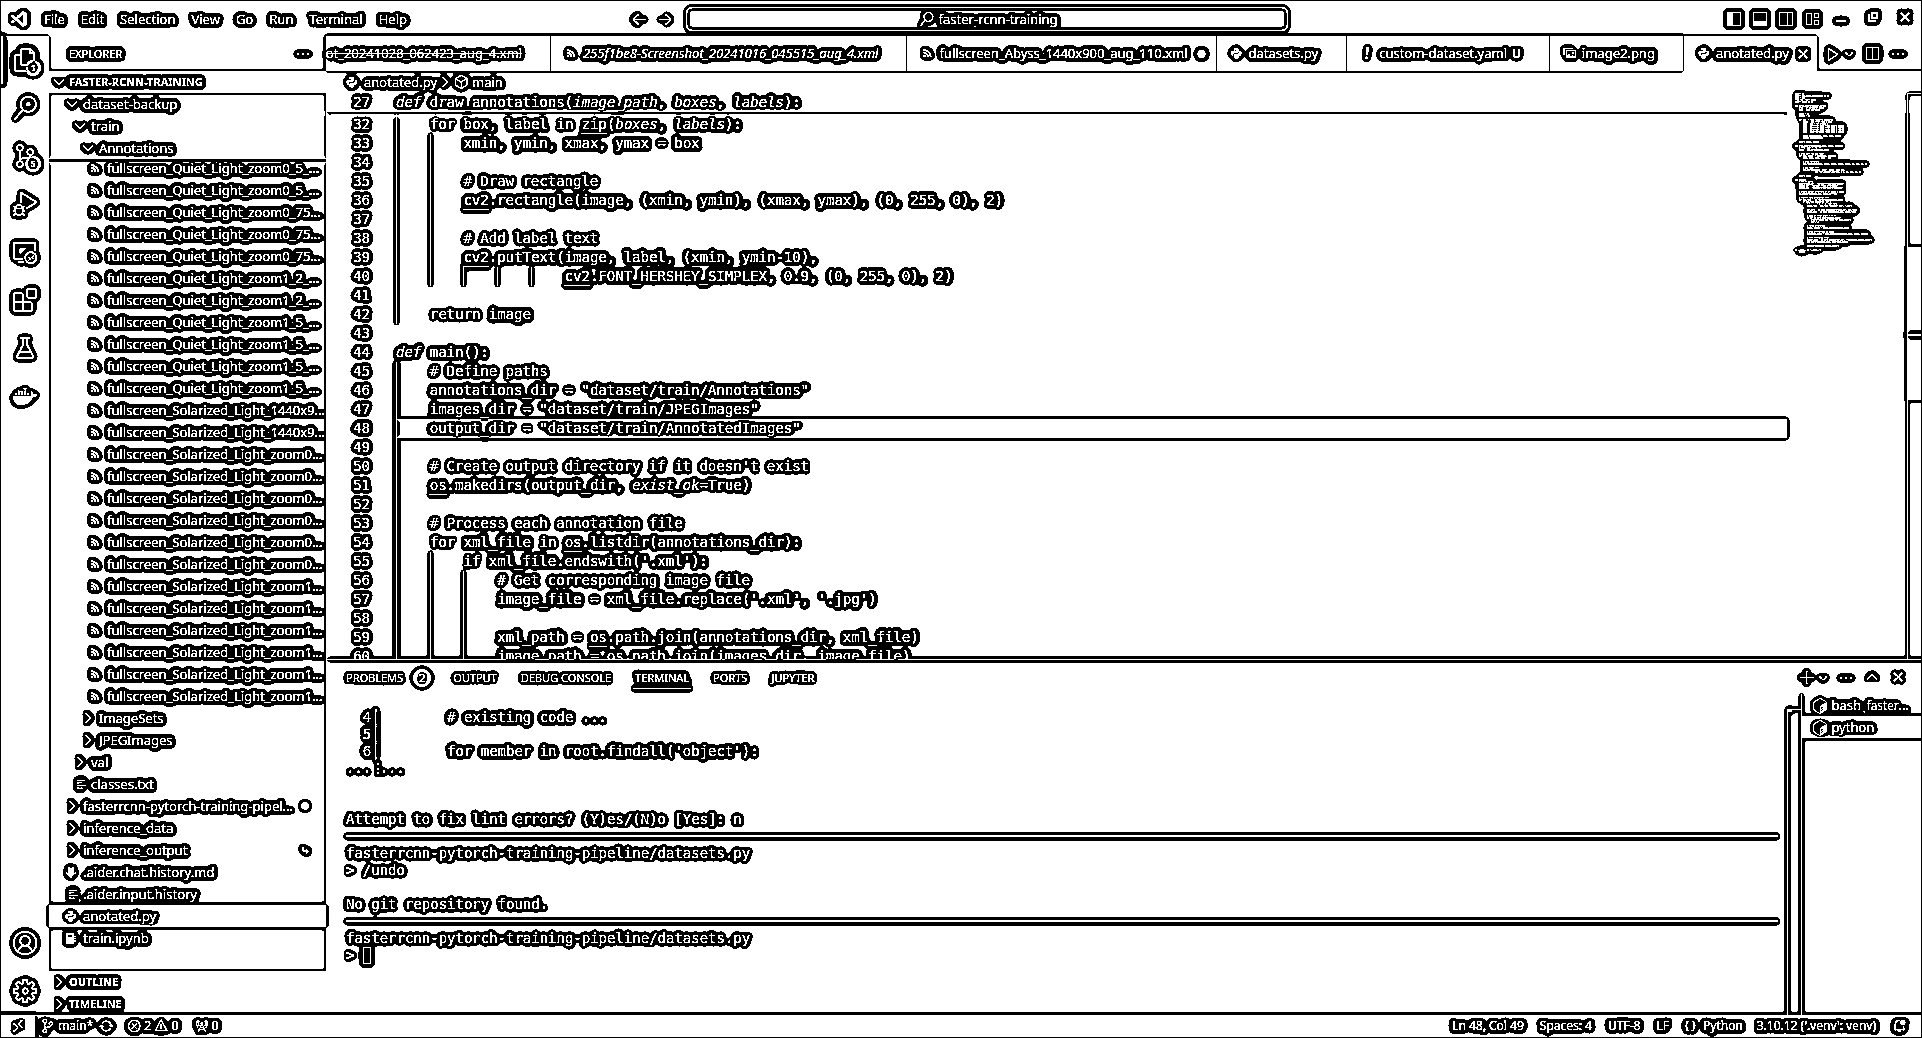Accounts: (6, 926, 40, 960)
Activity Bar: (0, 33, 49, 1012)
Close: (1886, 6, 1919, 27)
Editor: (325, 35, 1909, 661)
Explorer: (6, 40, 45, 79)
Extensions: (4, 281, 40, 314)
Manage: (10, 973, 38, 1006)
Maximize: (1856, 1, 1886, 28)
Minimize: (1829, 3, 1857, 29)
Panel: (326, 657, 1919, 1015)
Primary Side Bar: (46, 35, 328, 1016)
Run and Debug: (4, 187, 41, 222)
Search: (9, 84, 40, 124)
Search Bar: (681, 6, 1288, 33)
Source Control: (4, 133, 43, 176)
Status Bar: (1, 1012, 1919, 1035)
Testing: (9, 323, 40, 369)
Top Bar: (3, 3, 1919, 37)
